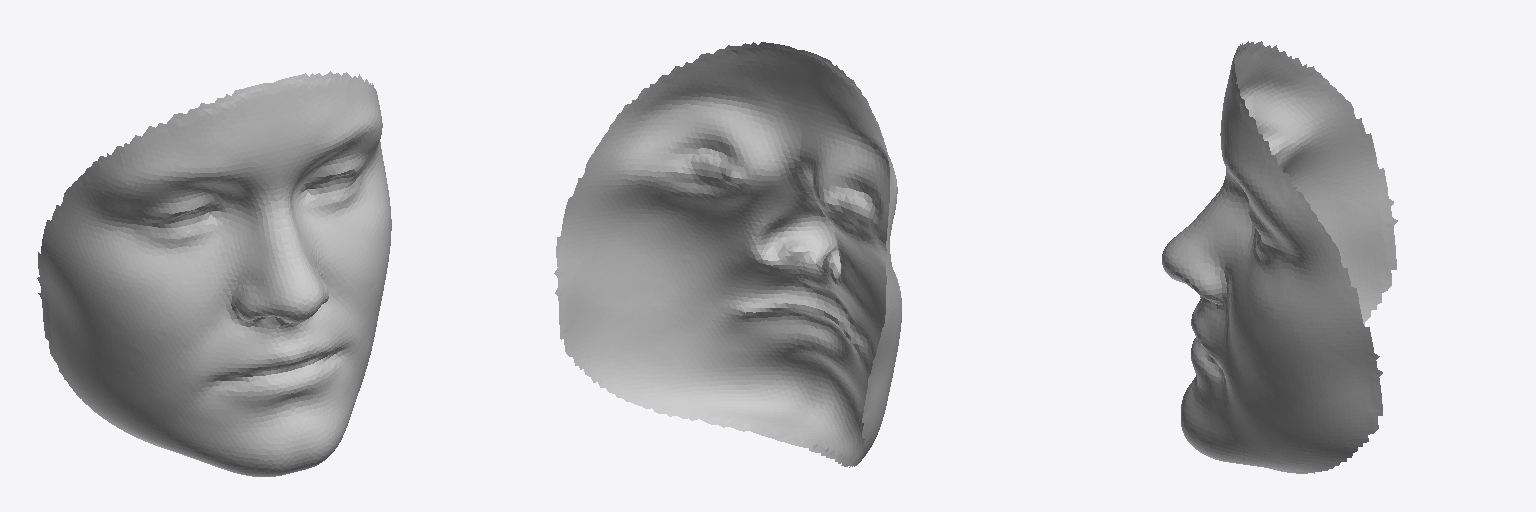
Rendered from SIMPOP_32.obj.
3 renders of one model, left to right at view 1: azimuth 30°, elevation 25°; view 2: azimuth 150°, elevation 25°; view 3: azimuth 270°, elevation 25°, orthographic.
Parts seen in each view (by area): view 1: SIMPOP_32; view 2: SIMPOP_32; view 3: SIMPOP_32.
Boxes of the visible parts, x1=… form: SIMPOP_32: x1=37, y1=71, x2=391, y2=476; SIMPOP_32: x1=554, y1=42, x2=901, y2=467; SIMPOP_32: x1=1162, y1=41, x2=1397, y2=473.
Size of the model in its own units: 133 by 147 by 81.73.